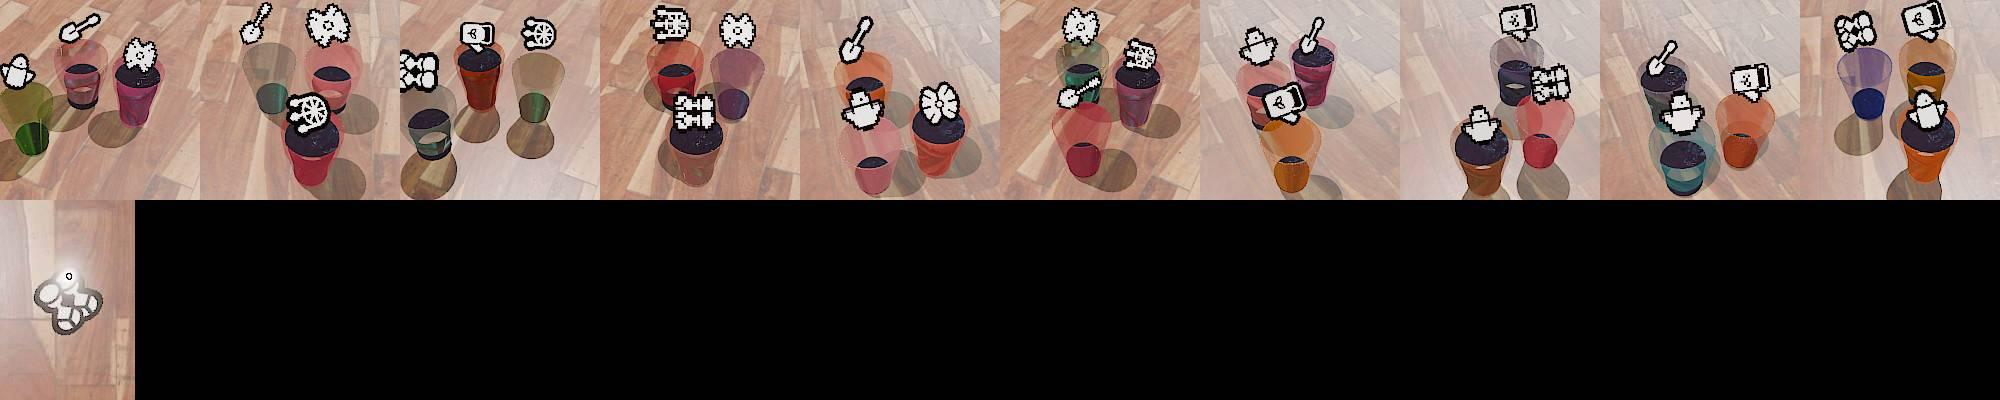icon: (32, 262, 105, 334), (1246, 80, 1306, 126), (1657, 90, 1707, 135), (305, 3, 349, 48), (917, 80, 960, 127), (1528, 61, 1571, 106), (286, 92, 332, 134), (398, 48, 440, 94), (841, 87, 885, 129), (672, 90, 717, 132), (1902, 1, 1946, 42), (1904, 89, 1950, 129), (1834, 10, 1876, 52), (1462, 103, 1505, 144), (838, 15, 874, 64), (1730, 61, 1772, 102), (1239, 24, 1278, 66), (1499, 3, 1538, 43), (651, 4, 691, 43), (1060, 6, 1099, 46), (718, 11, 756, 50), (240, 1, 273, 45), (59, 11, 102, 45), (0, 52, 37, 90), (1645, 38, 1679, 80), (121, 37, 158, 74), (1120, 37, 1157, 74), (1056, 80, 1102, 110), (522, 17, 557, 51), (1298, 17, 1325, 57), (460, 22, 495, 47)
